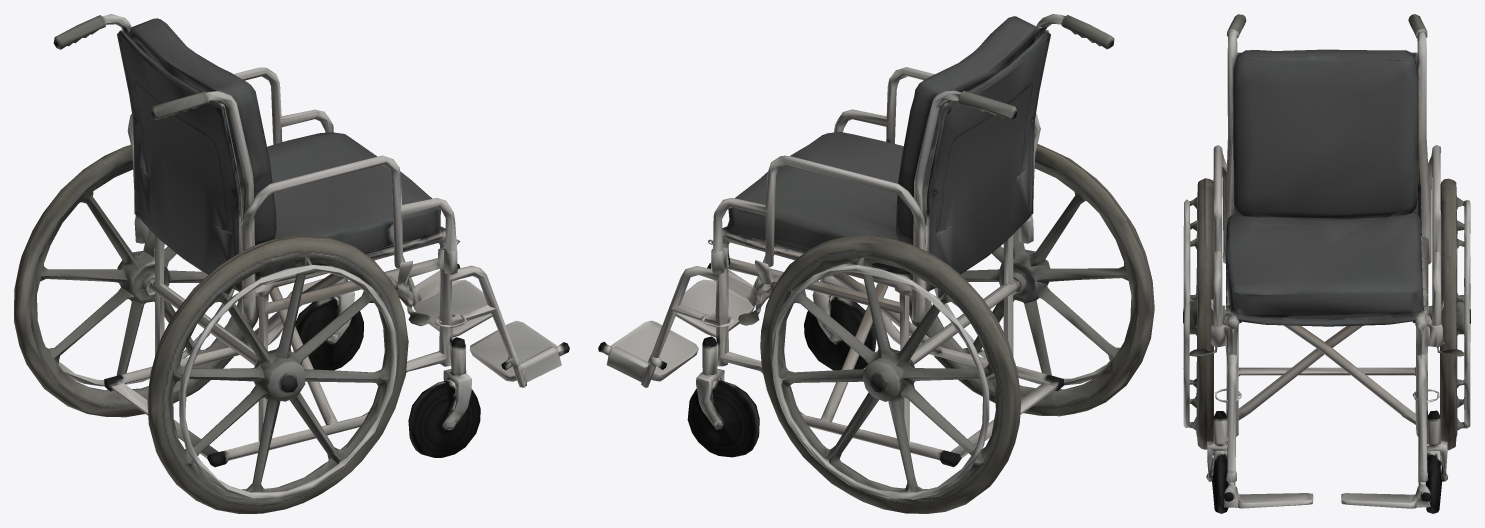
3 views of the same model, side by side, from view 1: azimuth 30°, elevation 25°; view 2: azimuth 150°, elevation 25°; view 3: azimuth 270°, elevation 25° (orthographic). The views are drawn at different scales.
Visible parts, largest first — view 1: repaired; view 2: repaired; view 3: repaired.
Boxes of the visible parts, bbox=[...] form: repaired: bbox=[14, 14, 569, 513]; repaired: bbox=[598, 14, 1154, 513]; repaired: bbox=[1183, 14, 1470, 513].
Size of the model in its own units: 1 by 0.9314 by 0.635.
